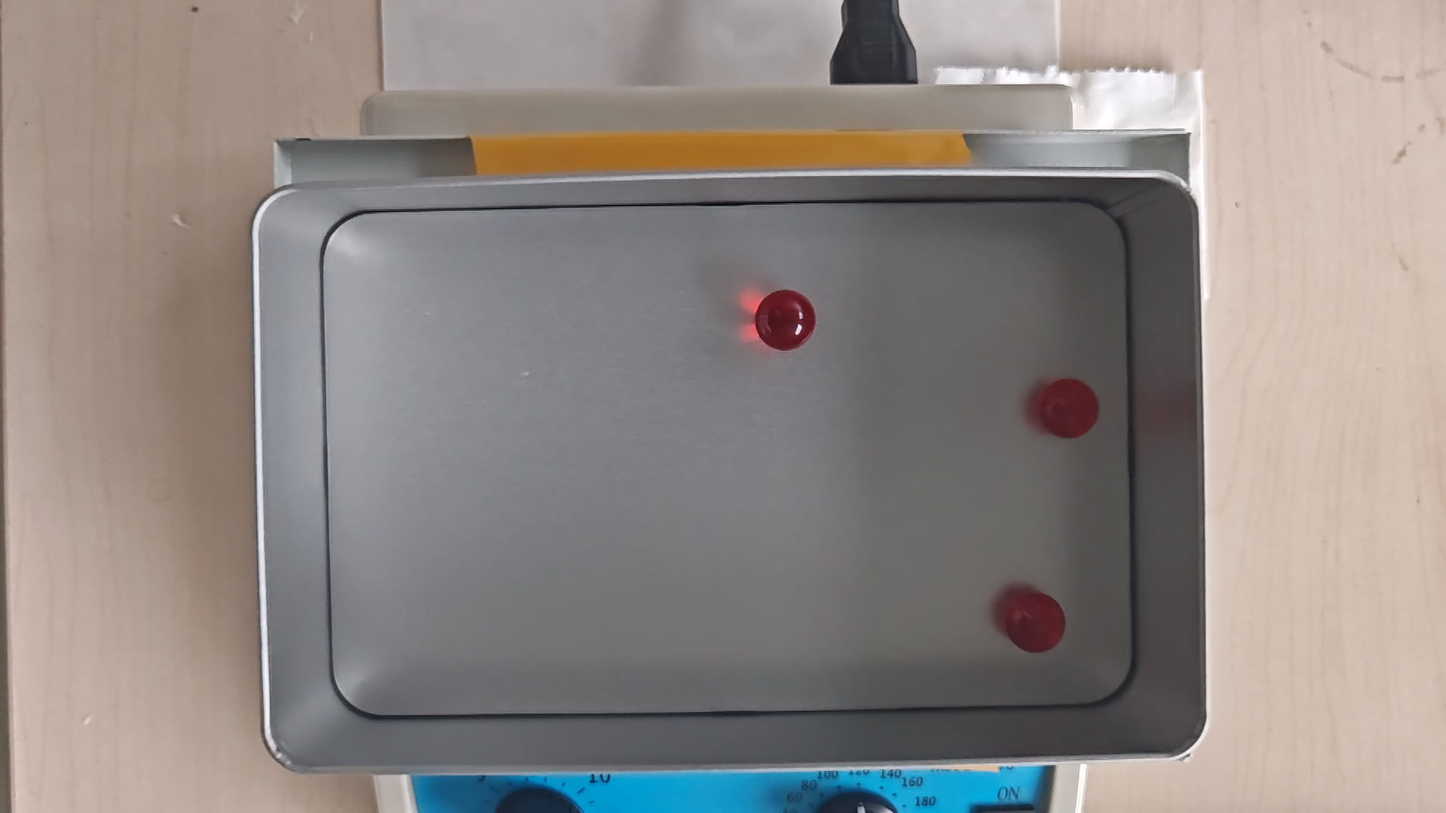ball: (754, 288, 816, 354), (1003, 592, 1068, 654), (1039, 378, 1098, 440)
container: (326, 201, 1131, 714)
